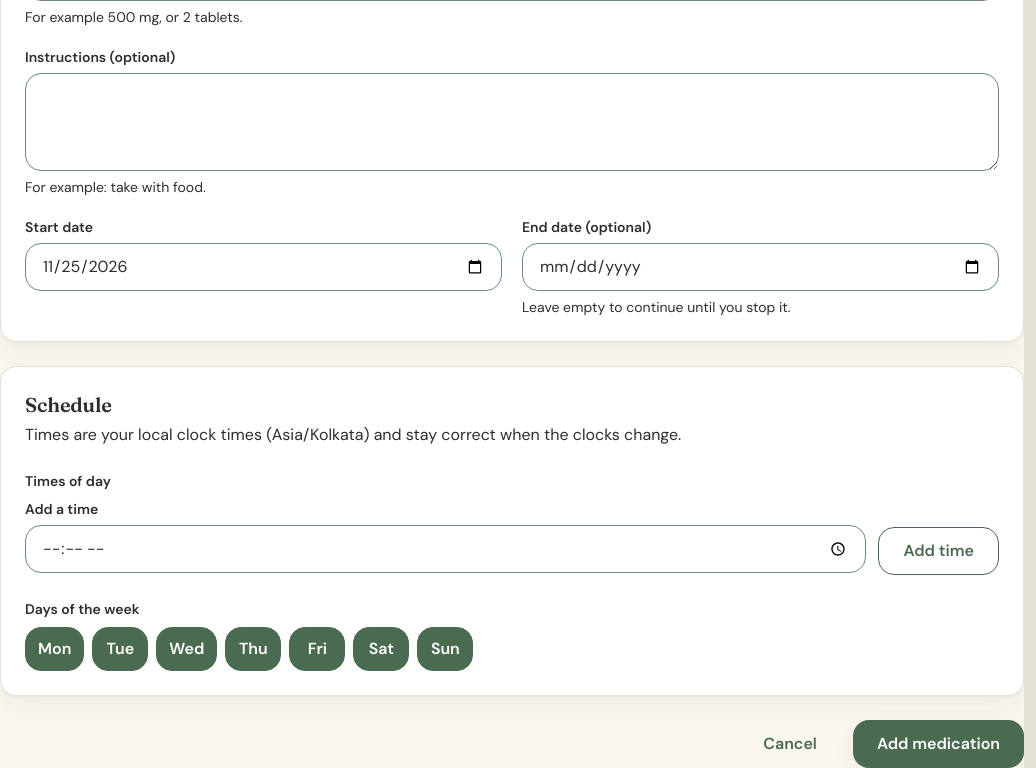
Scenario: time chips › refuses a duplicate with a clear message
(page scrolled)
Type "08:00" into the time field labelled "Add a time" at (446, 549), box x1=25 y1=525 x2=866 y2=573
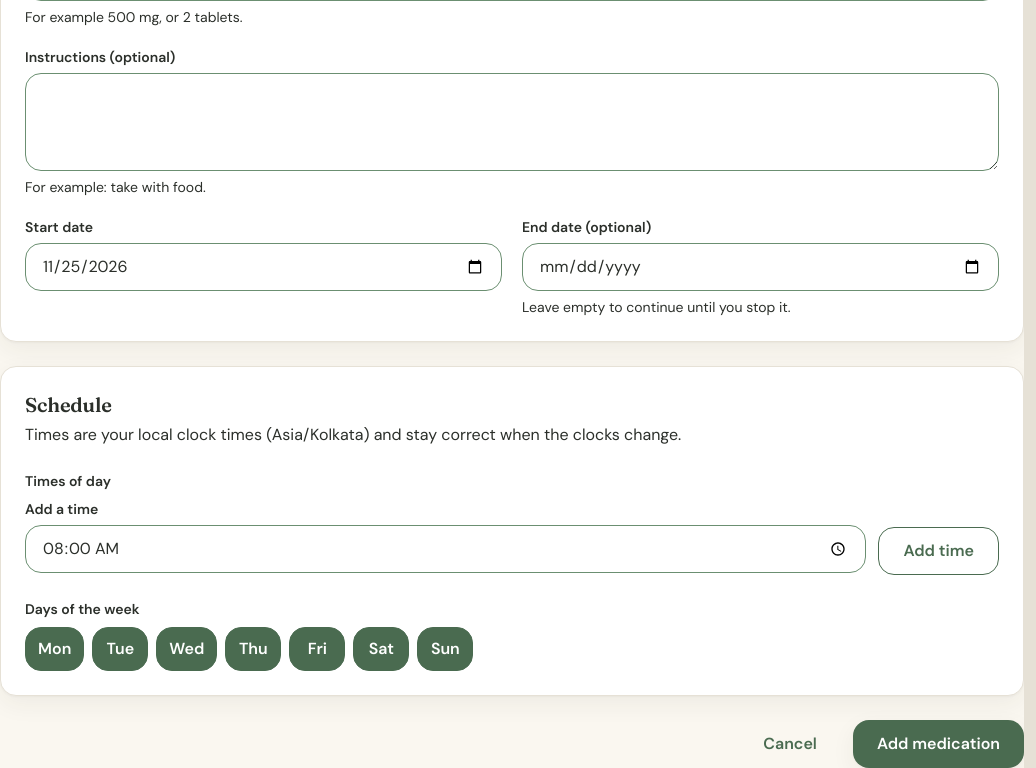
Click the button "Add time" at (939, 551), box x1=878 y1=527 x2=999 y2=575
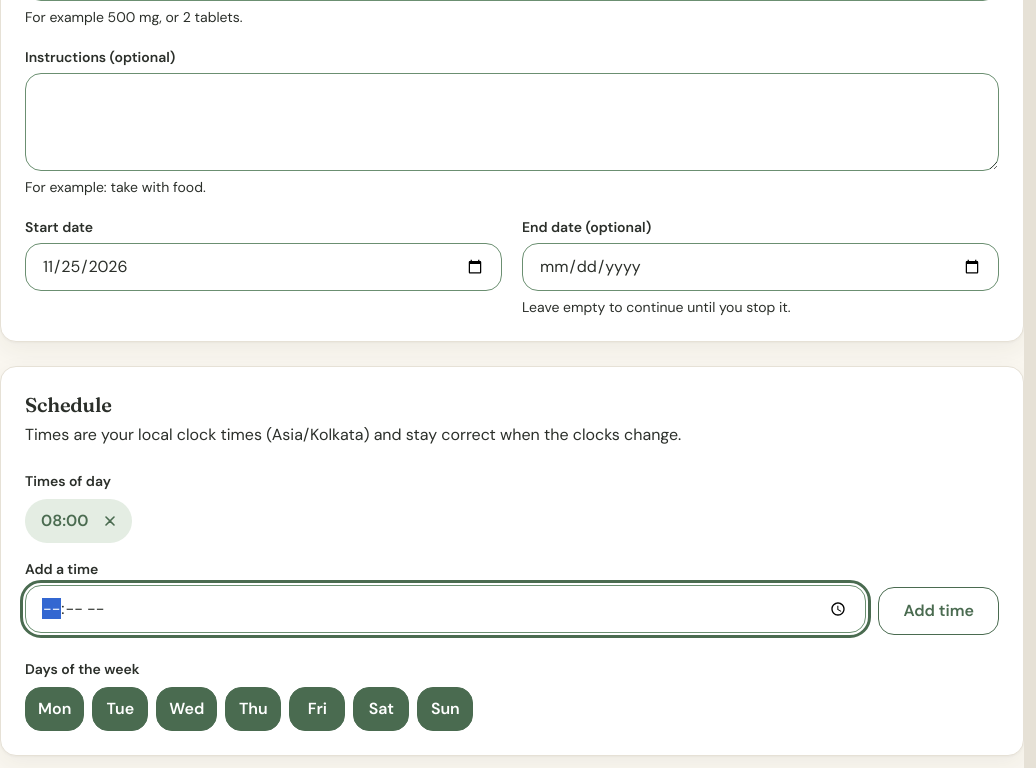
Type "08:00" into the time field labelled "Add a time" at (446, 609), box x1=25 y1=585 x2=866 y2=633
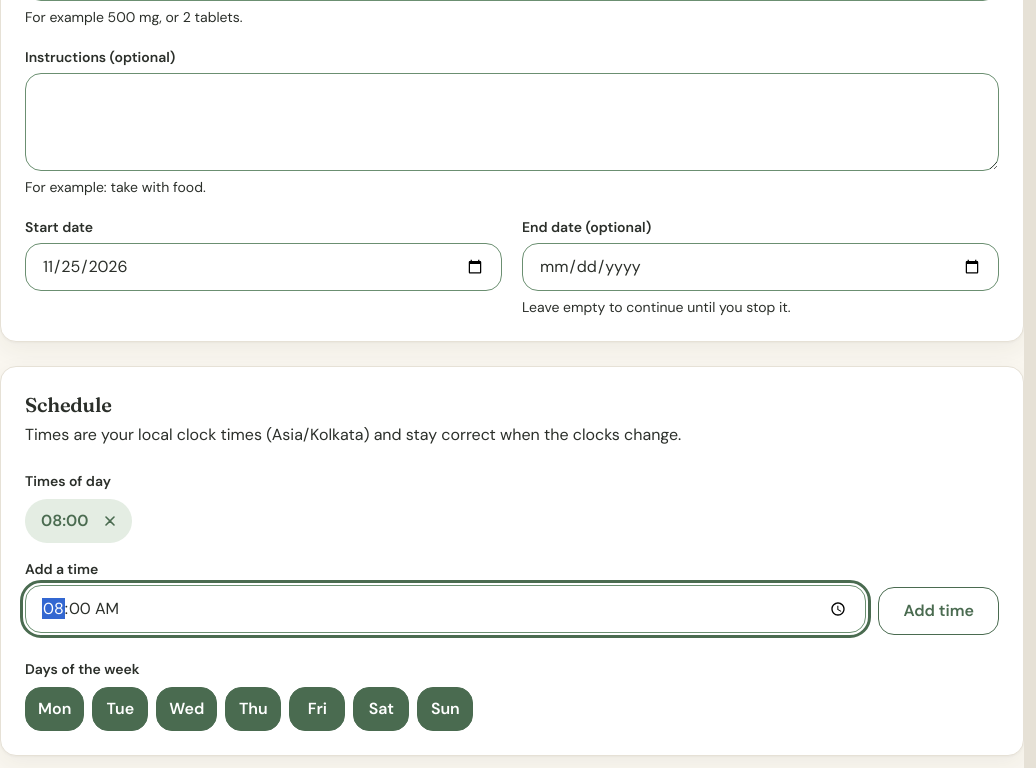
Click the button "Add time" at (939, 611), box x1=878 y1=587 x2=999 y2=635
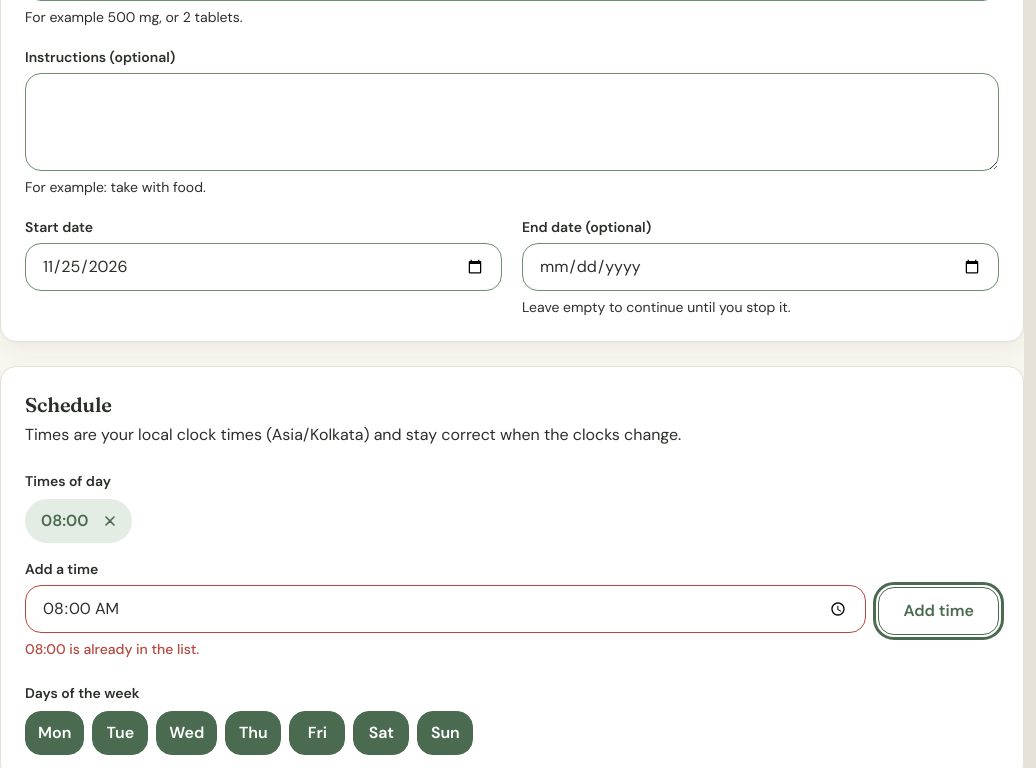
Check: the number of buttons named "Remove " is 1, box x1=92 y1=503 x2=128 y2=539
Check: the text "08:00 is already in the list." is shown, box x1=25 y1=640 x2=199 y2=658
